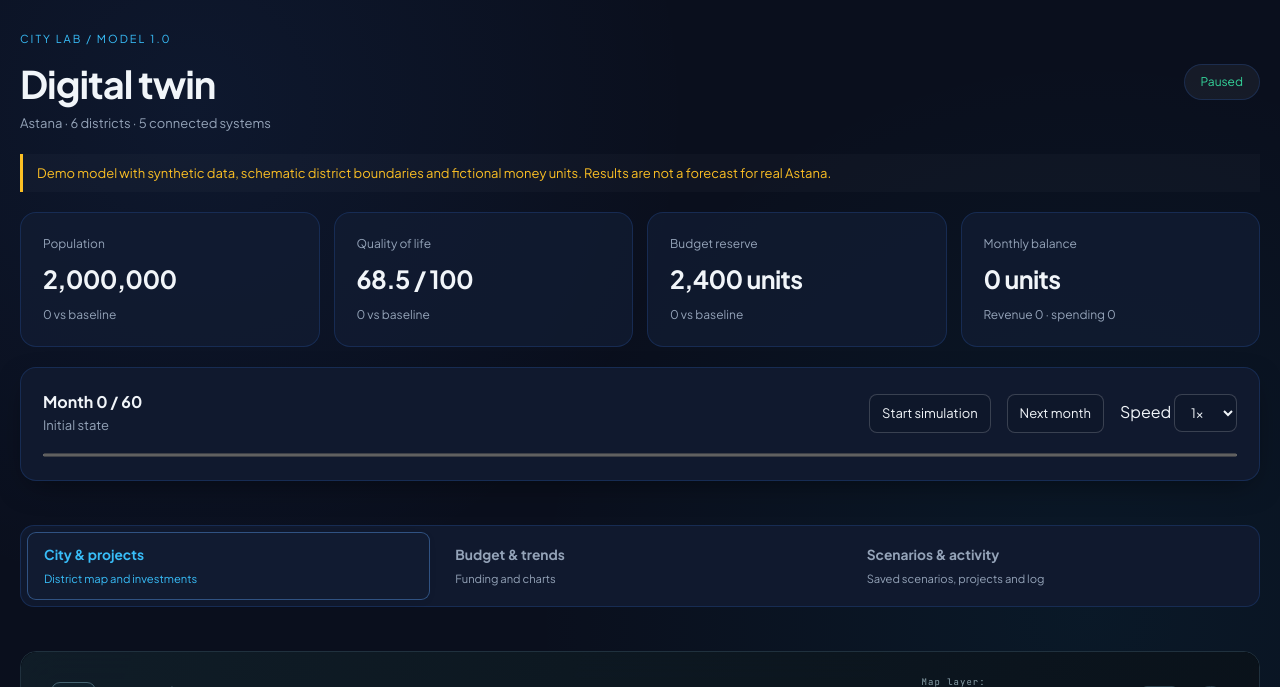
Test case: updates workspace and chart controls instantly in English and Kazakh
Click the tab "Budget & trends Funding and charts" at (510, 555), box [438,532,842,600]
(page scrolled)
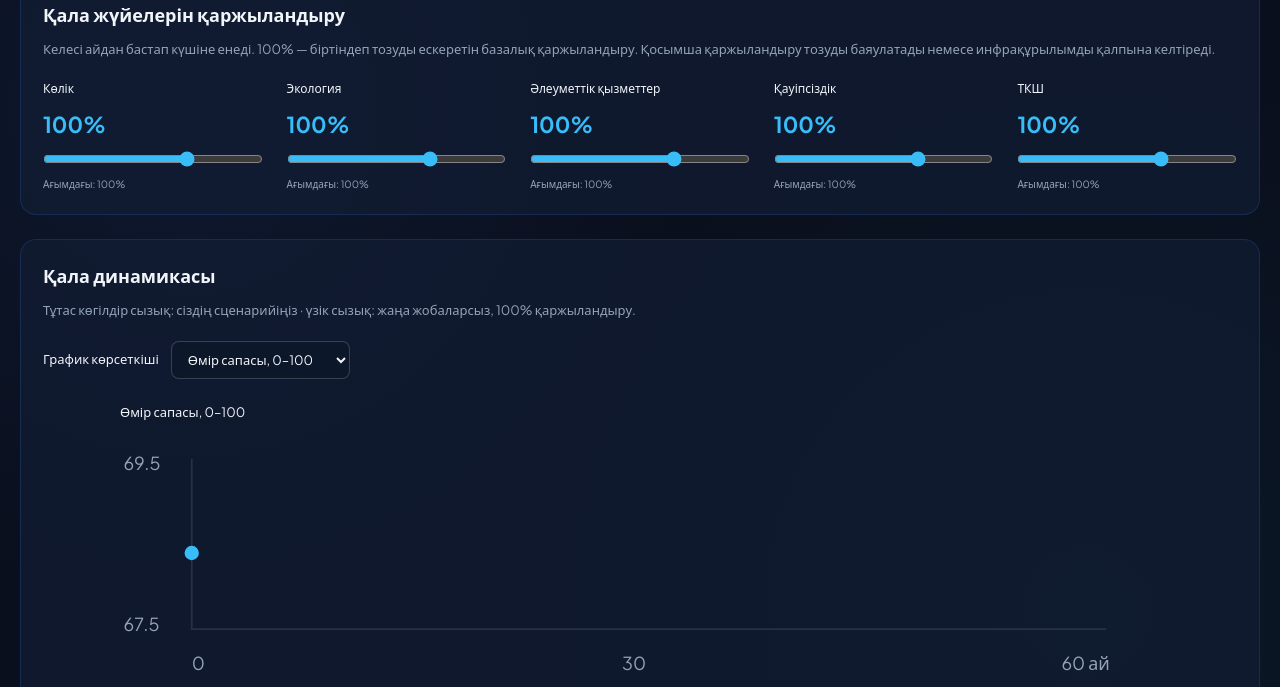
Check: the dropdown labelled "График көрсеткіші" is shown, box [171,341,350,379]
